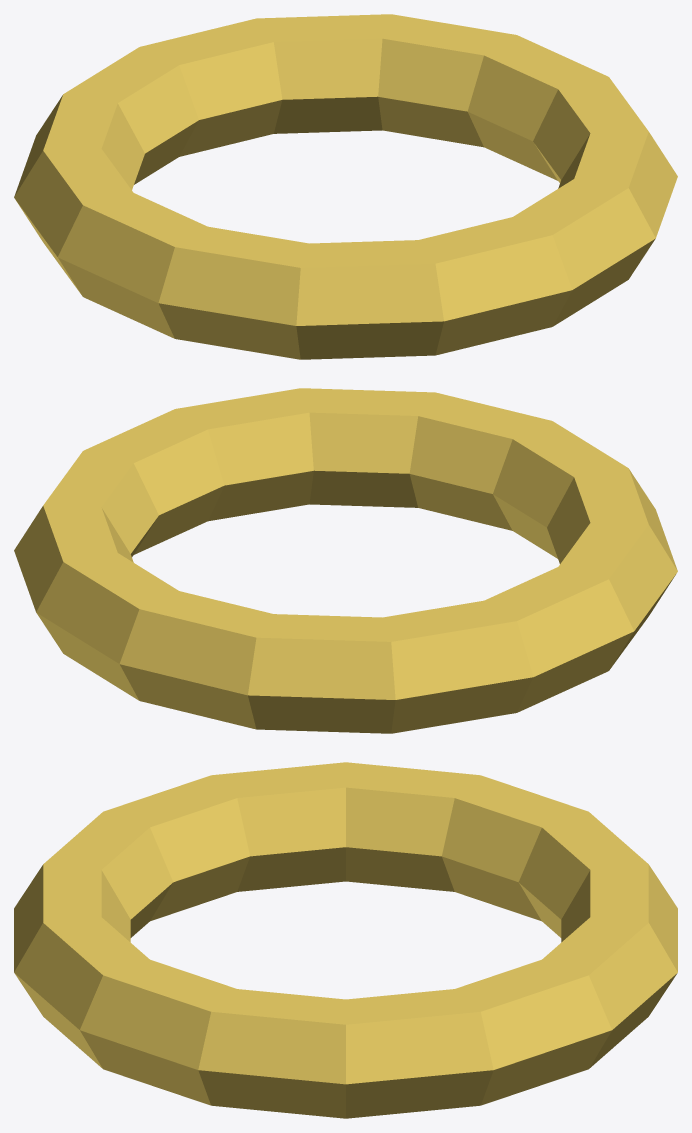
File: anklet.glb
3 views of the same model, one above another, from view 1: azimuth 30°, elevation 25°; view 2: azimuth 150°, elevation 25°; view 3: azimuth 270°, elevation 25° (orthographic). The views are drawn at different scales.
Parts seen in each view (by area): view 1: Torus; view 2: Torus; view 3: Torus.
Boxes of the visible parts, x1,y1,x2,y2 form: Torus: (14,14,677,359); Torus: (14,388,677,733); Torus: (14,762,677,1118).
Bounding box in the file's own units: 0.182 × 0.0277 × 0.1774.
